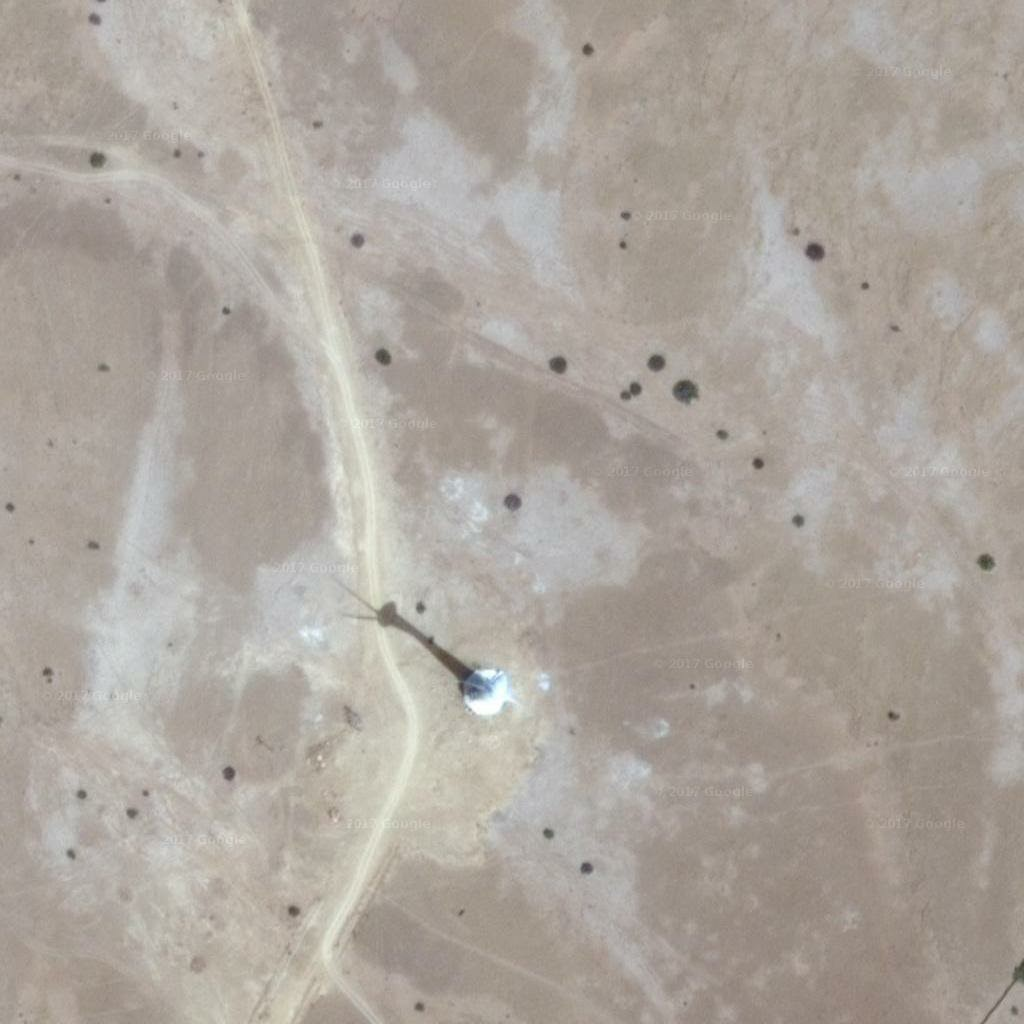Windmill: (326, 584, 478, 671)
